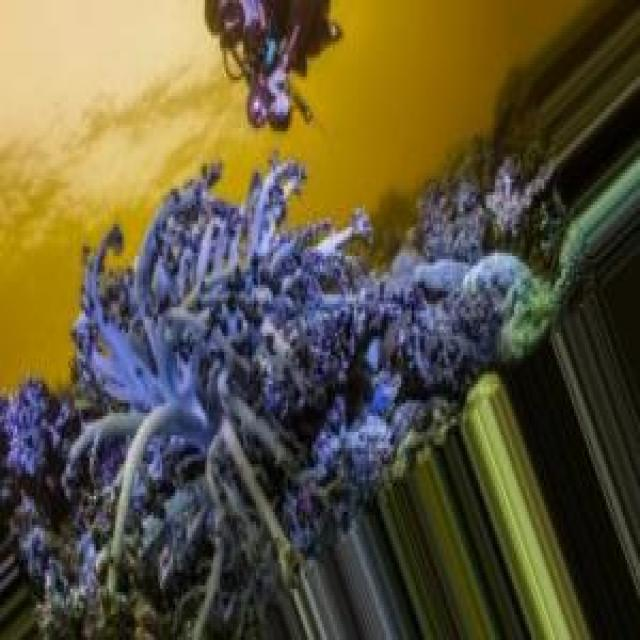Healthy: (74, 161, 575, 622), (1, 382, 84, 539)
